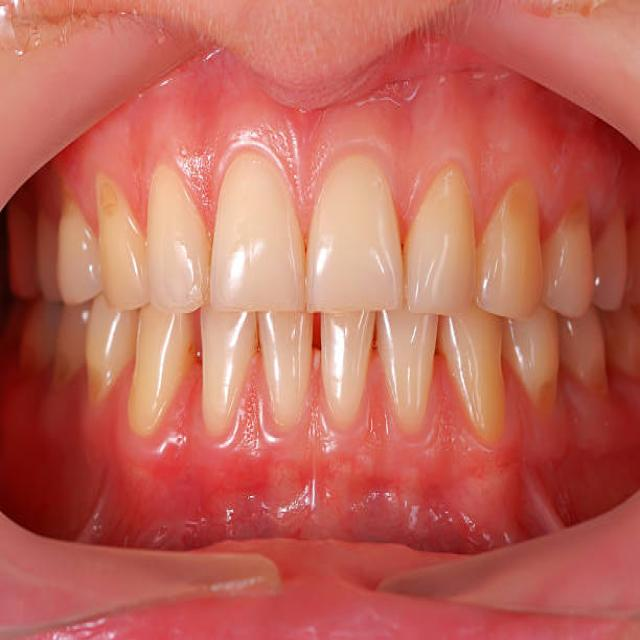caries: (554, 185, 596, 250), (94, 168, 132, 229), (526, 362, 562, 422)
